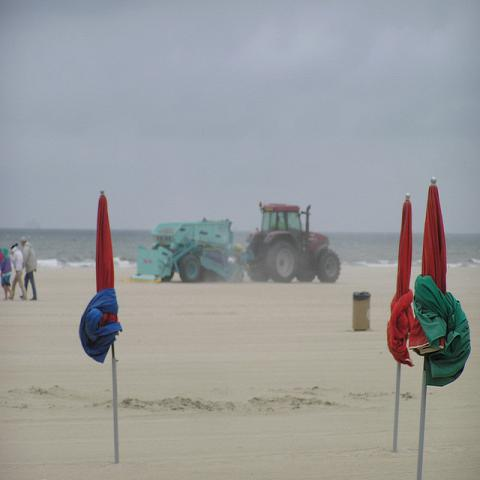truck: (132, 202, 344, 285)
